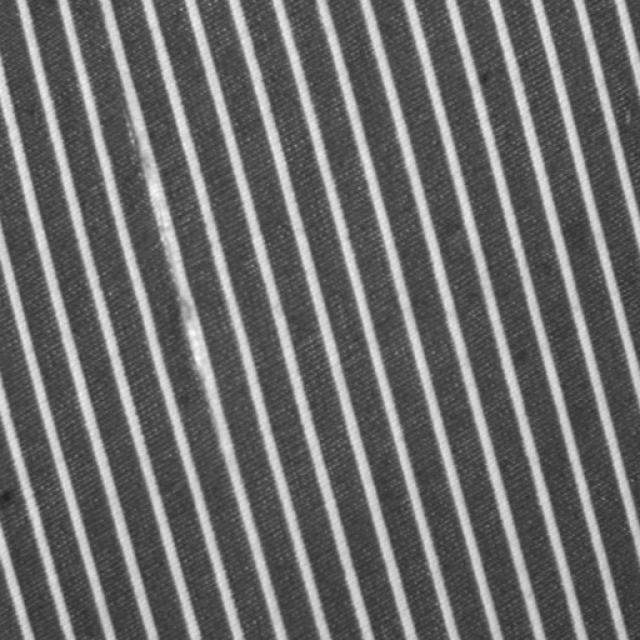Thread-Defect: (125, 95, 241, 488)
